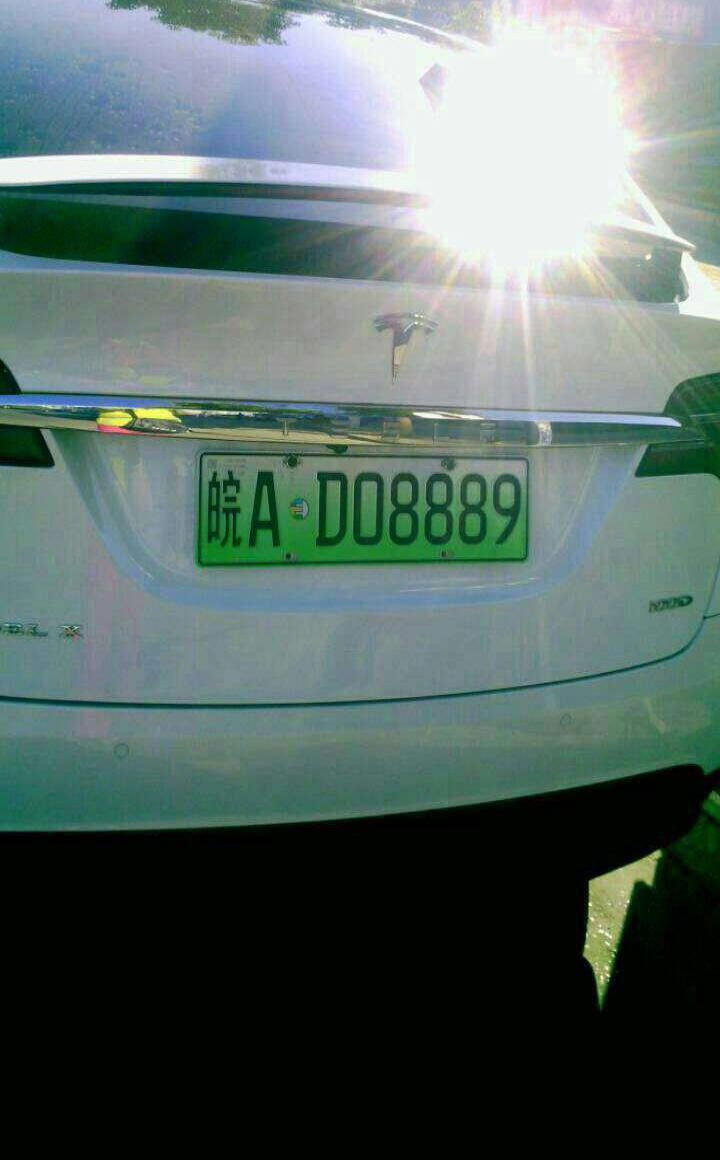car_id: (202, 457, 538, 566)
